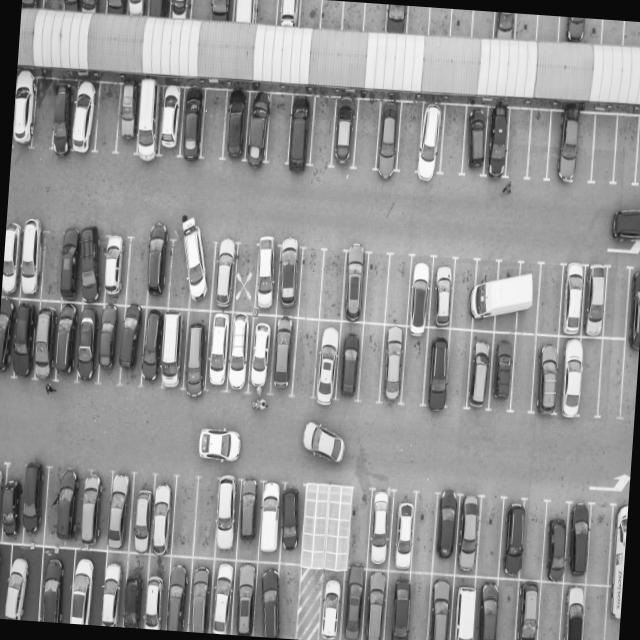car: (554, 334, 594, 416), (46, 466, 82, 544), (0, 542, 36, 620), (530, 335, 564, 416), (64, 549, 100, 625), (36, 547, 72, 623), (181, 309, 213, 394), (548, 110, 584, 184), (246, 314, 278, 396), (184, 232, 217, 310), (311, 318, 342, 401), (156, 307, 187, 390), (14, 460, 46, 540), (421, 328, 452, 410), (429, 490, 460, 572), (334, 319, 365, 401), (208, 235, 241, 312), (210, 474, 240, 558), (203, 311, 233, 394), (486, 332, 517, 412), (183, 556, 216, 631), (363, 488, 393, 570), (222, 312, 252, 394), (465, 329, 496, 408), (414, 104, 447, 178), (75, 230, 107, 306), (204, 556, 236, 632), (118, 304, 148, 385), (388, 489, 418, 570), (375, 323, 405, 404), (78, 470, 109, 548), (267, 314, 297, 394), (454, 496, 484, 576), (496, 499, 526, 578), (558, 264, 590, 338), (471, 257, 503, 331), (491, 258, 523, 332), (253, 238, 284, 314), (8, 298, 37, 379), (542, 504, 572, 582), (153, 84, 184, 159), (147, 474, 176, 554), (404, 256, 436, 328), (256, 479, 285, 558), (134, 82, 164, 158), (252, 560, 282, 636), (105, 473, 134, 551), (220, 89, 250, 164), (338, 252, 370, 322), (96, 302, 124, 382), (53, 302, 81, 382), (15, 223, 44, 300), (426, 256, 457, 328), (328, 97, 359, 169), (273, 242, 303, 316), (178, 88, 208, 162), (70, 80, 100, 154), (138, 556, 168, 630), (235, 476, 262, 558), (119, 552, 148, 628), (232, 558, 261, 634), (317, 569, 348, 640), (374, 101, 404, 174), (284, 94, 314, 167), (243, 92, 273, 165), (578, 264, 608, 337), (511, 261, 541, 334), (75, 302, 102, 383), (449, 574, 482, 640), (102, 235, 133, 305), (460, 106, 490, 178), (482, 109, 512, 181), (126, 473, 153, 552), (100, 550, 128, 626), (358, 567, 387, 640), (425, 572, 456, 640), (31, 301, 58, 379), (276, 486, 303, 564), (563, 507, 590, 585), (162, 555, 190, 630), (139, 307, 165, 387), (383, 569, 412, 640), (49, 78, 76, 154), (144, 235, 172, 306), (337, 569, 365, 640), (12, 74, 38, 148), (57, 229, 83, 302), (116, 83, 142, 155), (513, 578, 543, 640), (1, 464, 26, 538), (471, 579, 500, 640), (555, 580, 584, 640), (607, 503, 628, 585), (1, 222, 24, 296), (602, 581, 622, 640), (560, 16, 602, 44), (625, 267, 640, 341), (0, 297, 14, 375), (382, 3, 408, 34), (276, 0, 303, 27), (493, 12, 519, 40), (230, 0, 255, 24), (208, 0, 234, 22), (145, 0, 171, 19), (166, 0, 192, 18), (0, 467, 6, 544), (124, 0, 148, 17), (105, 0, 130, 15), (78, 0, 105, 13), (60, 0, 80, 11), (21, 0, 43, 9)
free: (596, 338, 628, 418), (442, 328, 473, 408), (355, 322, 386, 402), (288, 318, 319, 398), (511, 332, 542, 410), (474, 498, 504, 578), (400, 326, 430, 406), (409, 492, 438, 574), (265, 90, 296, 166), (270, 562, 301, 638), (228, 238, 258, 316), (344, 489, 372, 572), (168, 478, 198, 555), (199, 88, 230, 162), (576, 336, 604, 417), (585, 506, 613, 586), (520, 502, 548, 582), (192, 476, 220, 556), (400, 570, 432, 640), (436, 104, 467, 176), (308, 96, 339, 168), (293, 248, 324, 320), (502, 106, 532, 180), (603, 265, 633, 339), (352, 97, 382, 171), (534, 264, 564, 338), (394, 102, 424, 176), (94, 82, 124, 155), (316, 250, 346, 322), (448, 259, 478, 331), (525, 108, 554, 182), (382, 256, 412, 327), (590, 112, 619, 185), (360, 254, 390, 324), (166, 234, 194, 308), (31, 79, 59, 153), (125, 236, 154, 306), (613, 115, 640, 187), (301, 488, 325, 568), (534, 579, 565, 640), (572, 112, 597, 186), (493, 579, 522, 640), (581, 582, 610, 640), (40, 228, 64, 298), (619, 340, 639, 418), (362, 2, 388, 34), (339, 1, 365, 33), (404, 5, 430, 36), (427, 7, 453, 37), (318, 0, 344, 30), (450, 8, 475, 38), (535, 14, 560, 43), (471, 10, 496, 39), (297, 0, 322, 29), (513, 13, 537, 41), (601, 19, 625, 45), (254, 0, 278, 25), (620, 20, 640, 46), (189, 0, 213, 21), (634, 117, 640, 186), (42, 0, 66, 11)
